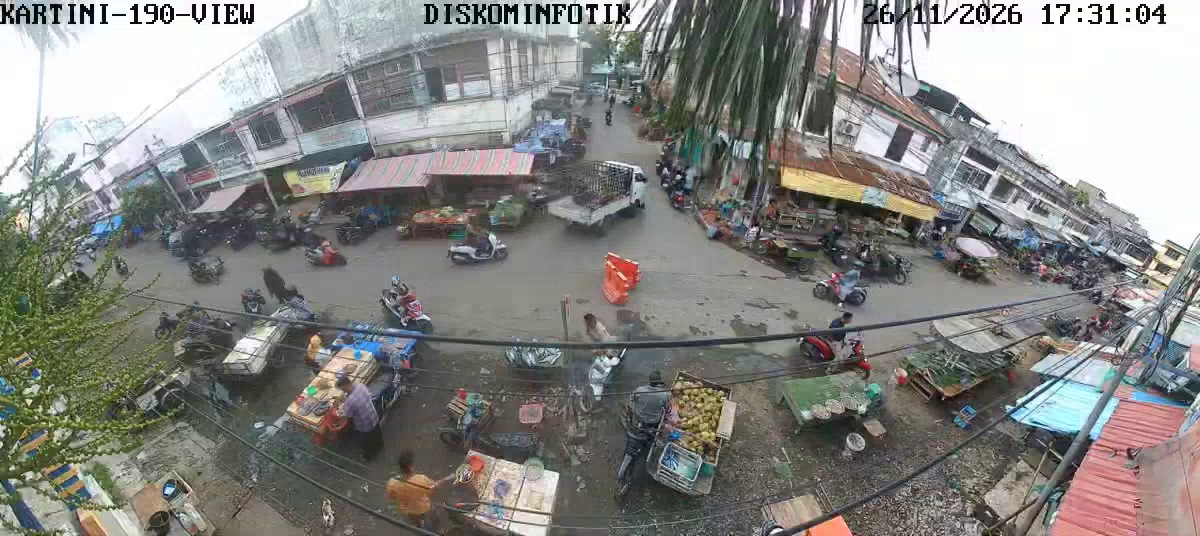Gerobak: (284, 338, 403, 448), (644, 370, 742, 497)
